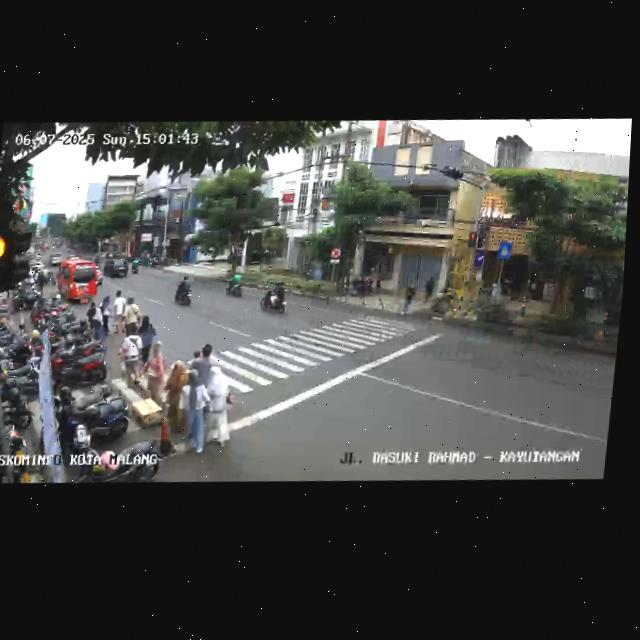car: (53, 256, 100, 305), (102, 255, 131, 281)
motorcycle: (259, 277, 291, 315), (172, 273, 198, 310), (226, 272, 245, 299)
person: (197, 363, 240, 451), (174, 366, 215, 457), (160, 358, 199, 439), (116, 321, 149, 391), (141, 340, 170, 412), (136, 315, 160, 370), (190, 343, 215, 389), (97, 293, 115, 337), (112, 289, 128, 338), (89, 306, 108, 345), (399, 280, 417, 320), (121, 297, 142, 326), (84, 302, 97, 331)
